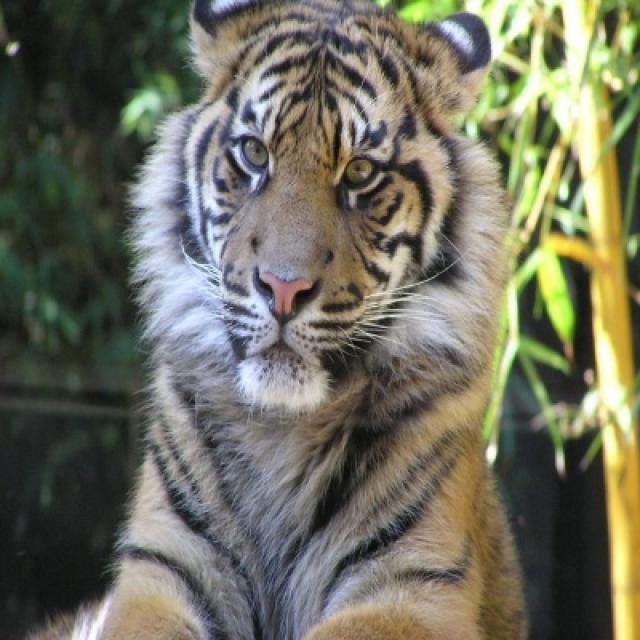Tiger: (30, 0, 525, 638)
